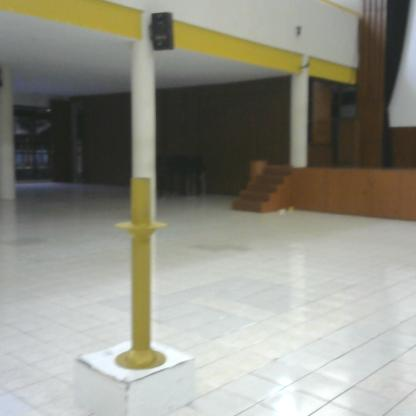pole: (109, 176, 172, 374)
